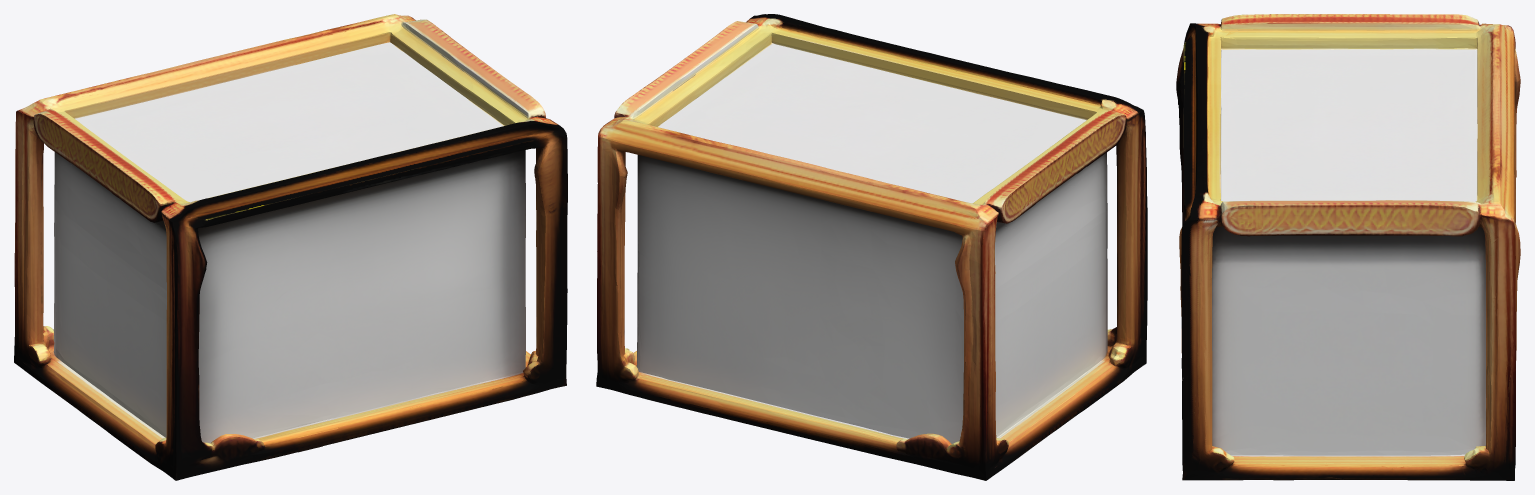
File: wooden-photo-frame-3d.jpeg.glb
The picture shows the model from 3 angles, left to right: view 1: azimuth 30°, elevation 25°; view 2: azimuth 150°, elevation 25°; view 3: azimuth 270°, elevation 25°; orthographic projection. The views are drawn at different scales.
Visible parts, largest first — view 1: world; view 2: world; view 3: world.
Boxes of the visible parts, box(x1,y1,x2,y2) form: world: box(14, 14, 567, 480); world: box(596, 14, 1147, 480); world: box(1176, 14, 1520, 480).
Size of the model in its own units: 1 by 0.6541 by 0.743.
Materials: 1 (1 with a texture image).
